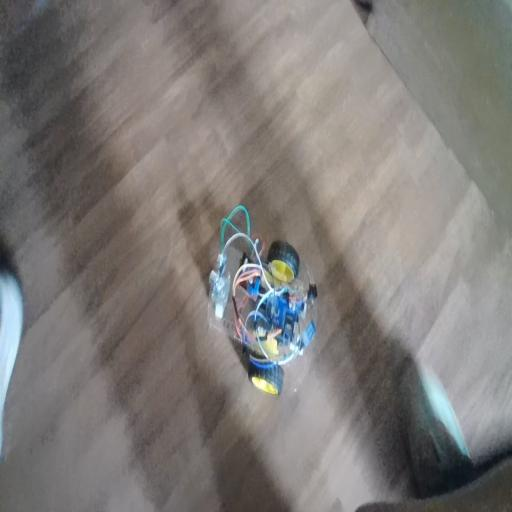car: (213, 198, 314, 403)
